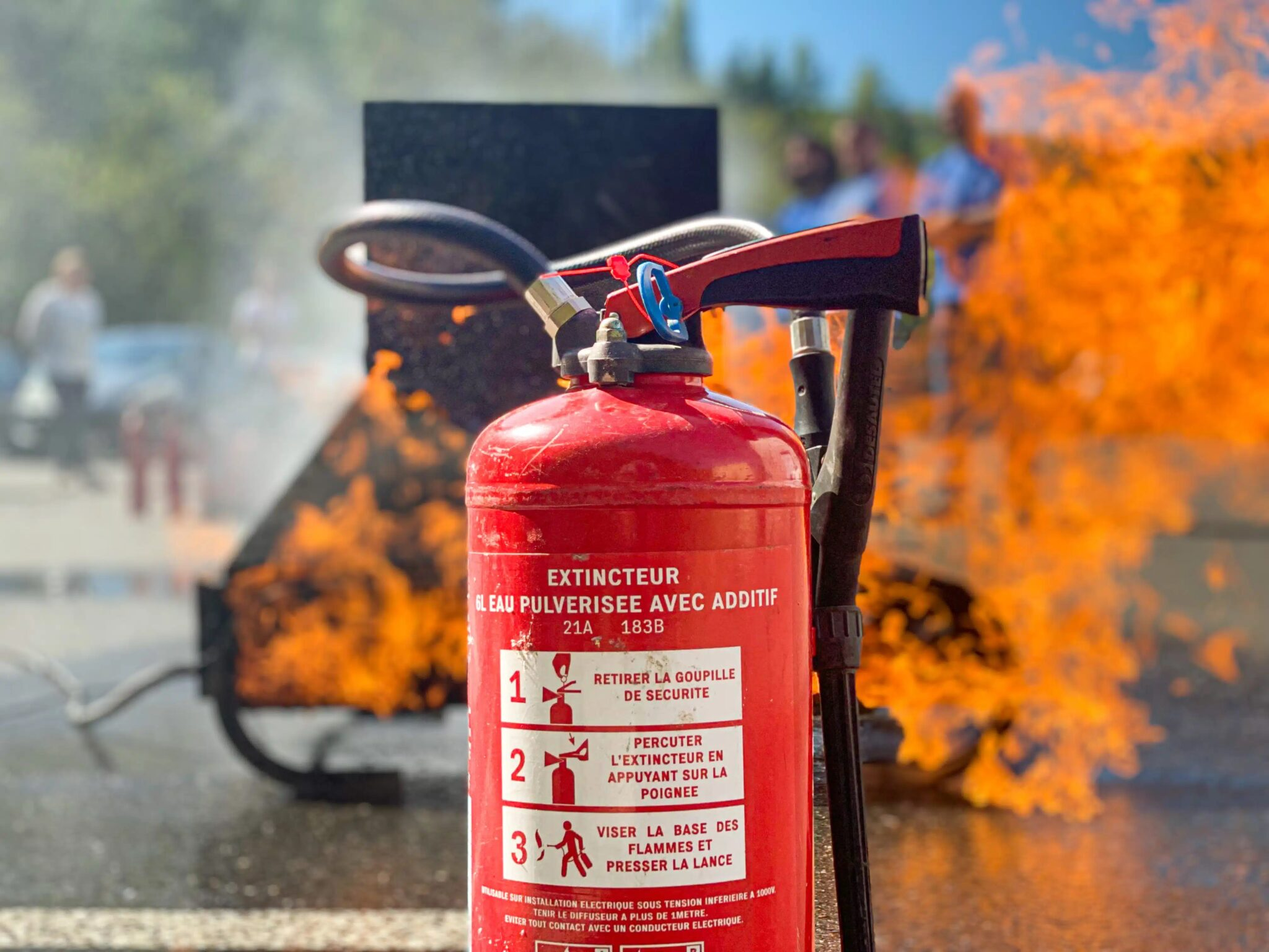Extincteur: (851, 604, 970, 741)
